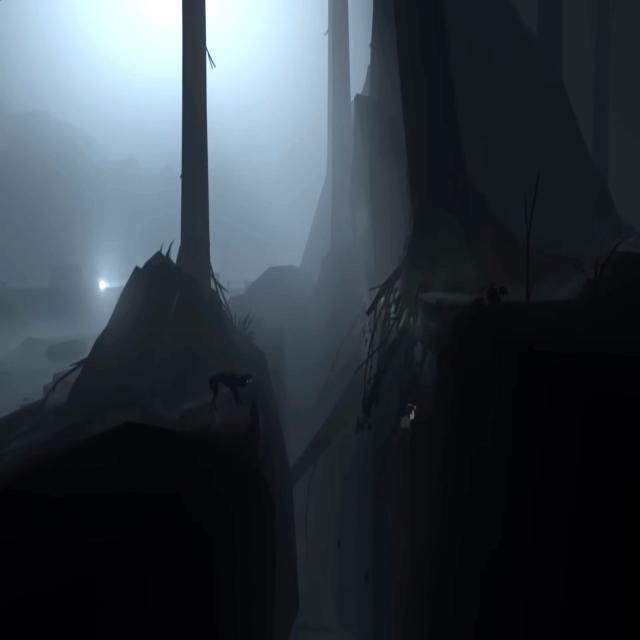boy: (399, 403, 416, 433)
